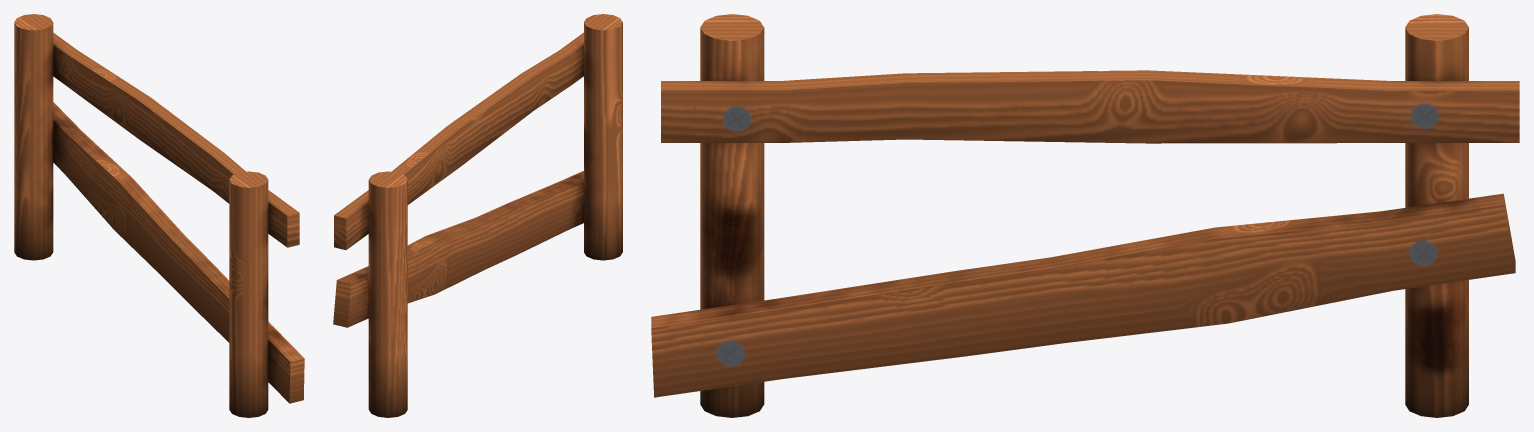
File: Fence3.fbx
3 renders of one model, left to right at view 1: azimuth 30°, elevation 25°; view 2: azimuth 150°, elevation 25°; view 3: azimuth 270°, elevation 25°, orthographic. The views are drawn at different scales.
Parts seen in each view (by area): view 1: Fence3; view 2: Fence3; view 3: Fence3.
Boxes of the visible parts, bbox=[...] form: Fence3: bbox=[14, 14, 304, 417]; Fence3: bbox=[333, 14, 622, 417]; Fence3: bbox=[651, 14, 1519, 417].
Bounding box in the file's own units: 25.78 × 118 × 246.
Materials: 1 (1 with a texture image).
